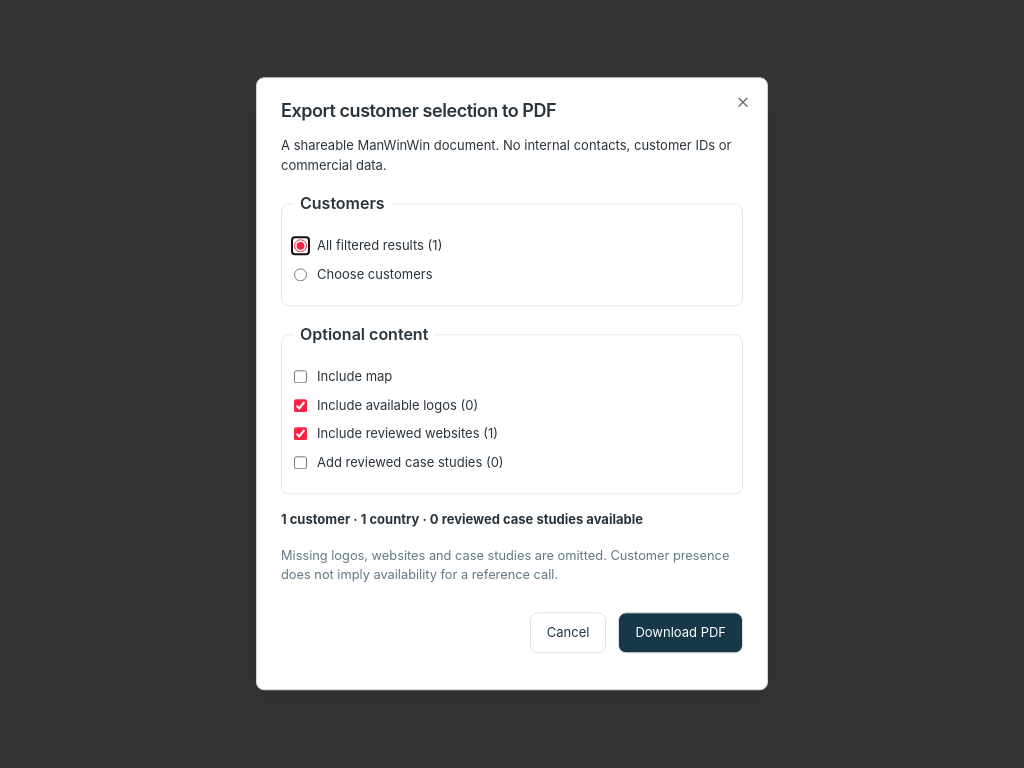
Test: Customer PDF export › blocks generation when the access check rejects
The width and height of the screenshot is (1024, 768).
Step 1. Click the button "Download PDF" → (681, 633), box [618, 612, 743, 654]
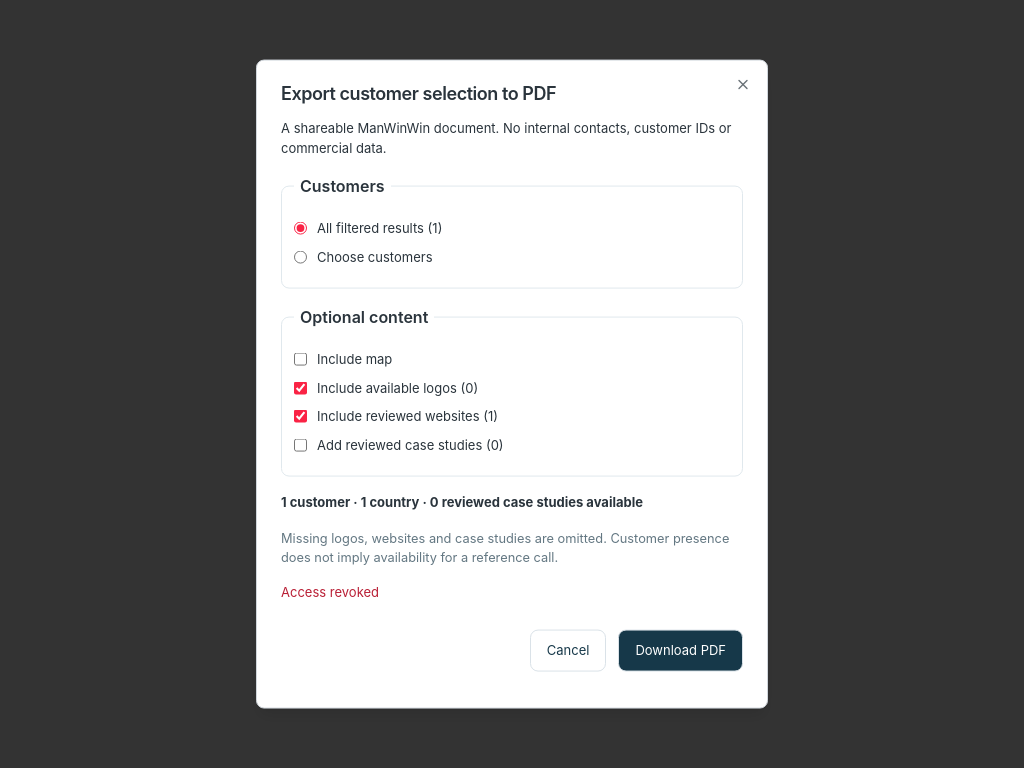
Expected: the message "Access revoked" is shown, [281, 583, 379, 599]
